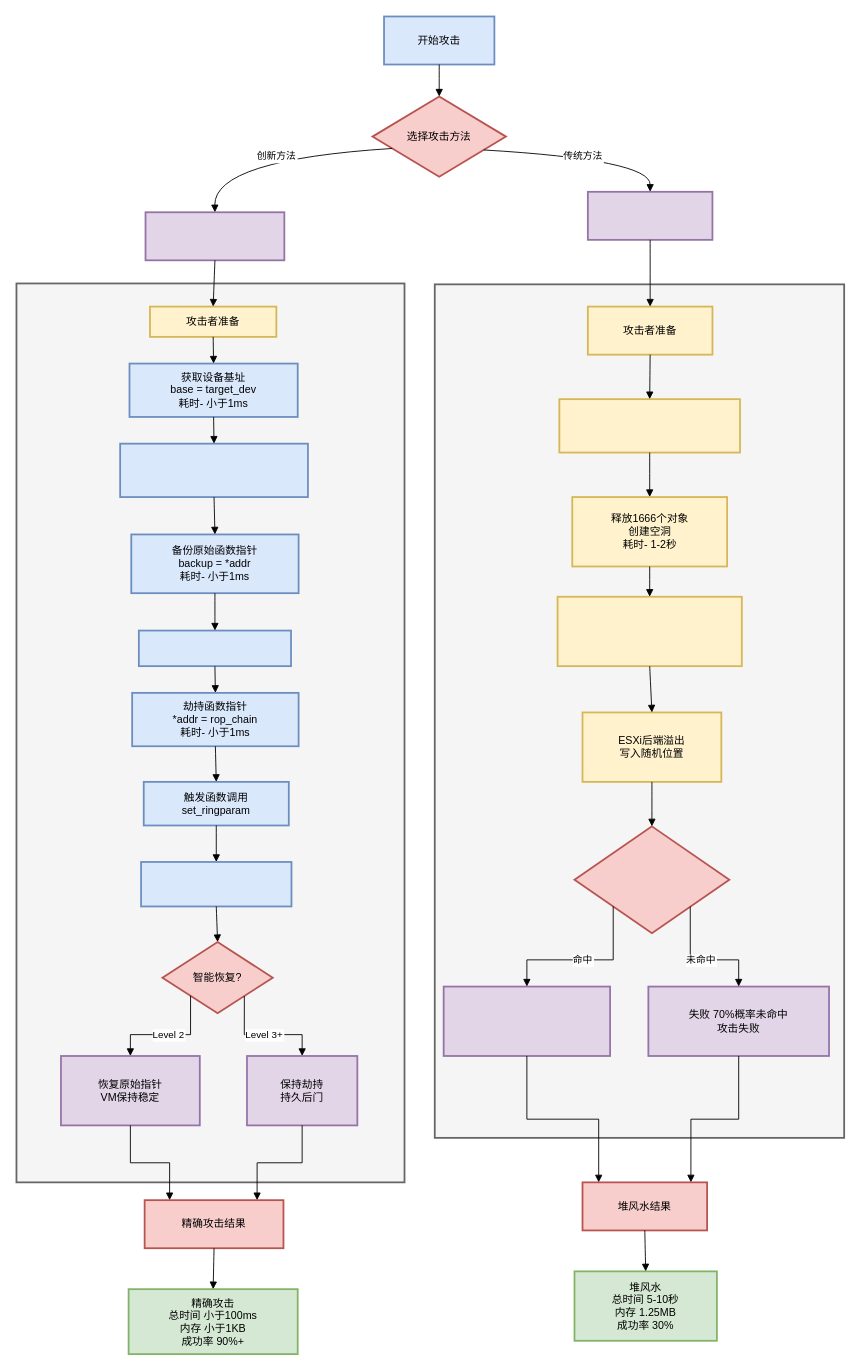
This 860x1370 diagram has some shape labels left out. The shapes that lost their labels are listed below. From the top down, each one's centre as x and y in pixels, then its label:
(650,215): 堆风水方法
(214,236): 精确攻击方法
(649,425): 分配5000个ROP对象 耗时- 3-5秒 内存- 1.25MB
(213,470): 计算精确偏移 addr = base + 0x1048 耗时- 小于1ms
(214,648): 构造ROP链 耗时- 小于10ms
(649,631): 触发整数溢出 ring_size=0x8000000
(216,884): ROP链立即执行 100%确定性
(651,879): 溢出是否命中 ROP对象?
(526,1020): 成功 30%概率命中 ROP链执行
